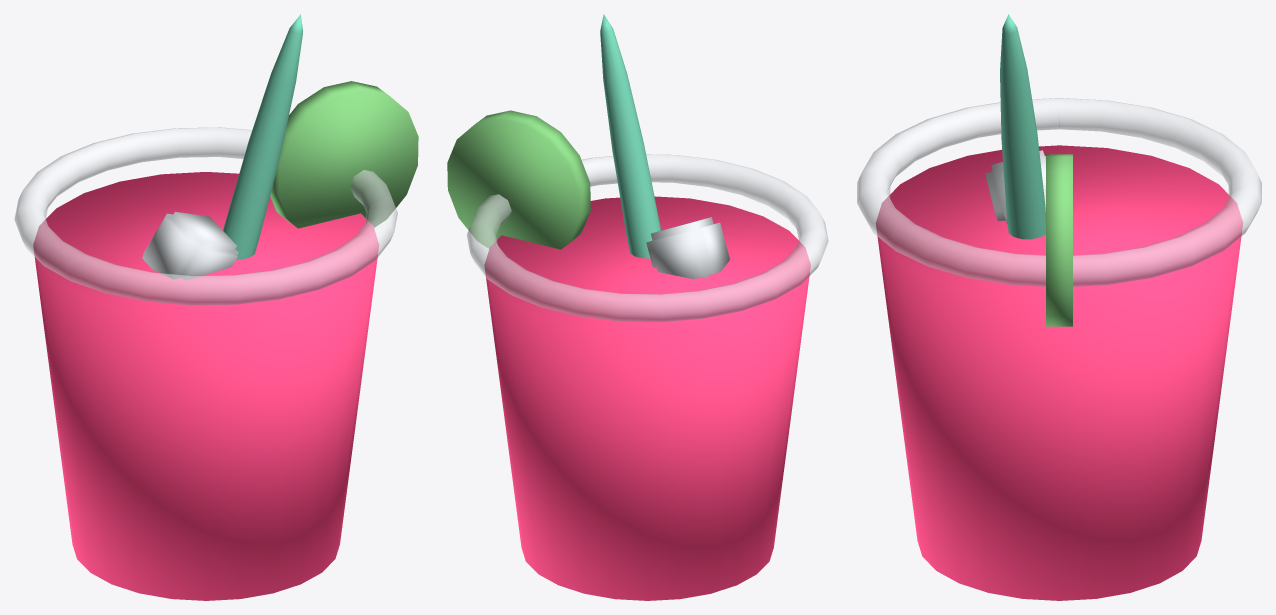
The model's file is agua_fresca.glb.
The picture shows the model from 3 angles, left to right: view 1: azimuth 30°, elevation 25°; view 2: azimuth 150°, elevation 25°; view 3: azimuth 270°, elevation 25°; orthographic projection. The views are drawn at different scales.
Visible parts, largest first — view 1: DrinkFill, CupRim, Lime, Straw, Ice1; view 2: DrinkFill, CupRim, Lime, Straw, Ice1; view 3: DrinkFill, CupRim, Straw, Lime, Ice1.
Part boxes in pixels (x1=…): DrinkFill: x1=33, y1=172, x2=379, y2=600; CupRim: x1=14, y1=127, x2=397, y2=305; Lime: x1=270, y1=81, x2=418, y2=228; Straw: x1=223, y1=14, x2=302, y2=259; Ice1: x1=142, y1=212, x2=238, y2=280; DrinkFill: x1=484, y1=196, x2=810, y2=600; CupRim: x1=467, y1=154, x2=828, y2=321; Lime: x1=447, y1=110, x2=590, y2=249; Straw: x1=600, y1=14, x2=660, y2=258; Ice1: x1=646, y1=217, x2=729, y2=279; DrinkFill: x1=876, y1=145, x2=1242, y2=600; CupRim: x1=857, y1=98, x2=1261, y2=286; Straw: x1=1000, y1=14, x2=1045, y2=239; Lime: x1=1046, y1=154, x2=1072, y2=326; Ice1: x1=985, y1=150, x2=1045, y2=224.
Bounding box in the file's own units: 0.2732 × 0.3722 × 0.2422.
